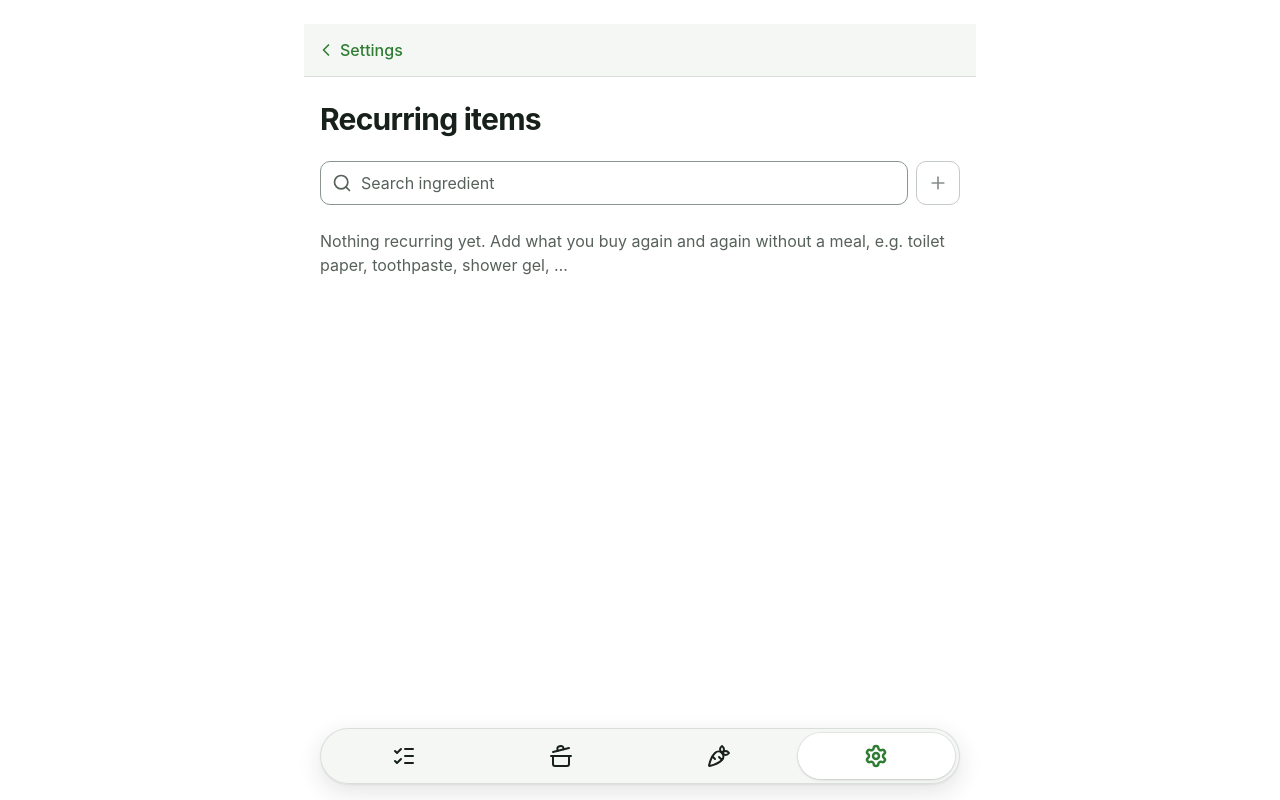
Test: the ingredient field on "Regelmäßige Artikel" (LIST-16, D-41, ING-04) › waits with ＋ for the results of the typed text
Type "klopapier" into the search field labelled "Search ingredient".
click(614, 183); type("klopapier")  # box [320,161,908,205]
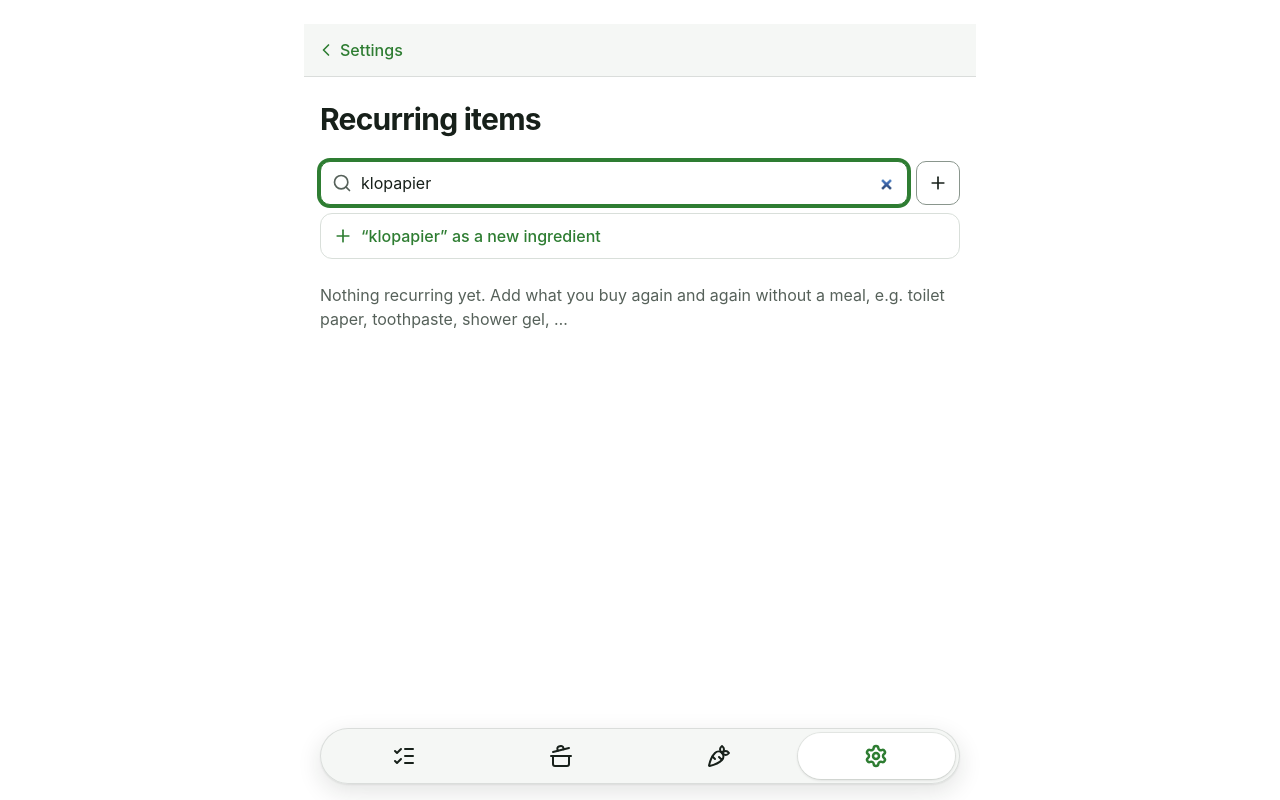
Click the button named "Add “klopapier”".
click(938, 183)  # box [916,161,960,205]
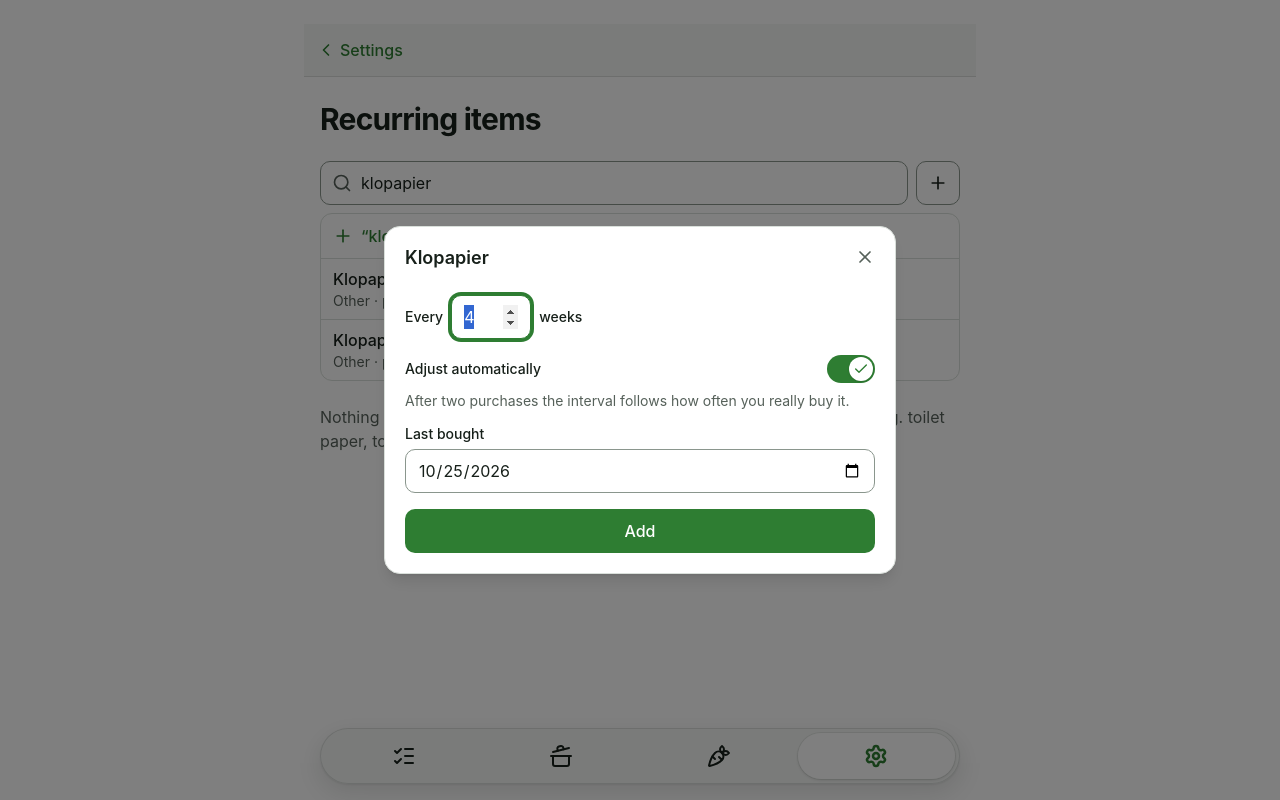
Expected: the dialog "Klopapier" is shown, [384,226,896,574]
